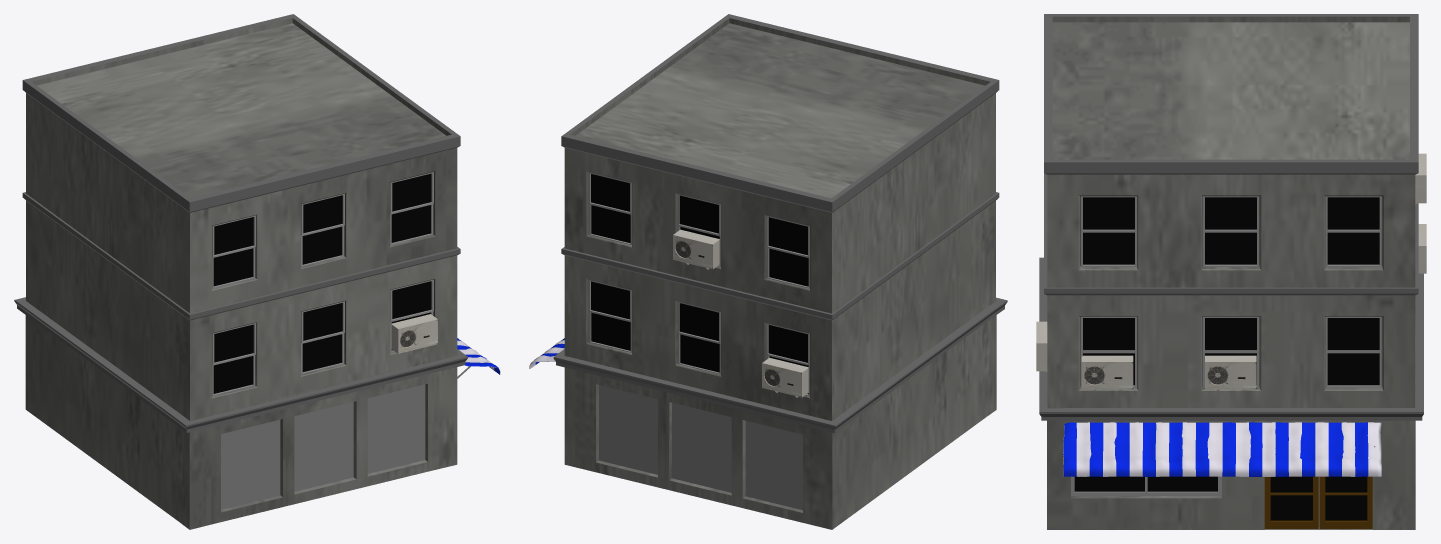
The model's file is building 6.fbx.
3 renders of one model, left to right at view 1: azimuth 30°, elevation 25°; view 2: azimuth 150°, elevation 25°; view 3: azimuth 270°, elevation 25°, orthographic. The views are drawn at different scales.
Parts seen in each view (by area): view 1: Cube.078, Building 4 (1).007, Cube.077, Cube.096, Cube.097, Cube.093, Cube.094, Cube.098, Cube.095, Aircon3.015; view 2: Cube.078, Building 4 (1).007, Cube.077, Cube.092, Cube.088, Cube.087, Cube.090, Cube.091, Cube.089, Aircon3.013, Aircon3.014; view 3: Cube.078, Cube.077, Building 4 (1).007, Plane.003, Cube.083, Cube.086, Cube.084, Cube.085, Building 4 (1).006, Building 4 (1).008, Cube.081, Cube.082 (+4 smaller).
Boxes of the visible parts, x1,y1,x2,y2 form: Cube.078: [22, 14, 460, 313]; Building 4 (1).007: [14, 297, 467, 529]; Cube.077: [22, 192, 460, 420]; Cube.096: [212, 215, 255, 288]; Cube.097: [301, 193, 344, 266]; Cube.093: [212, 323, 255, 395]; Cube.094: [301, 301, 344, 374]; Cube.098: [390, 172, 433, 244]; Cube.095: [390, 279, 433, 352]; Aircon3.015: [391, 314, 437, 353]; Cube.078: [561, 14, 999, 313]; Building 4 (1).007: [553, 297, 1007, 529]; Cube.077: [561, 192, 999, 420]; Cube.092: [766, 215, 809, 288]; Cube.088: [677, 301, 720, 374]; Cube.087: [588, 279, 631, 352]; Cube.090: [588, 172, 631, 245]; Cube.091: [677, 194, 720, 266]; Cube.089: [766, 323, 809, 396]; Aircon3.013: [673, 229, 719, 269]; Aircon3.014: [762, 357, 808, 397]; Cube.078: [1044, 14, 1418, 287]; Cube.077: [1044, 173, 1418, 408]; Building 4 (1).007: [1039, 257, 1423, 529]; Plane.003: [1063, 422, 1381, 476]; Cube.083: [1325, 316, 1381, 387]; Cube.086: [1325, 196, 1381, 266]; Cube.084: [1081, 196, 1136, 266]; Cube.085: [1203, 196, 1258, 266]; Building 4 (1).006: [1264, 476, 1318, 528]; Building 4 (1).008: [1319, 476, 1372, 528]; Cube.081: [1081, 316, 1136, 387]; Cube.082: [1203, 316, 1258, 387].
Size of the model in its own units: 1831 by 1769 by 1696.
Materials: 11 (3 with a texture image).
